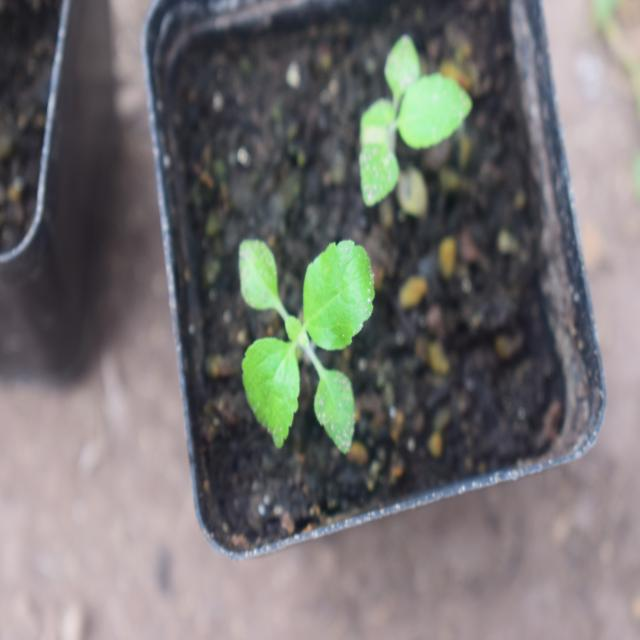billygoat_weed: (222, 231, 378, 467)
